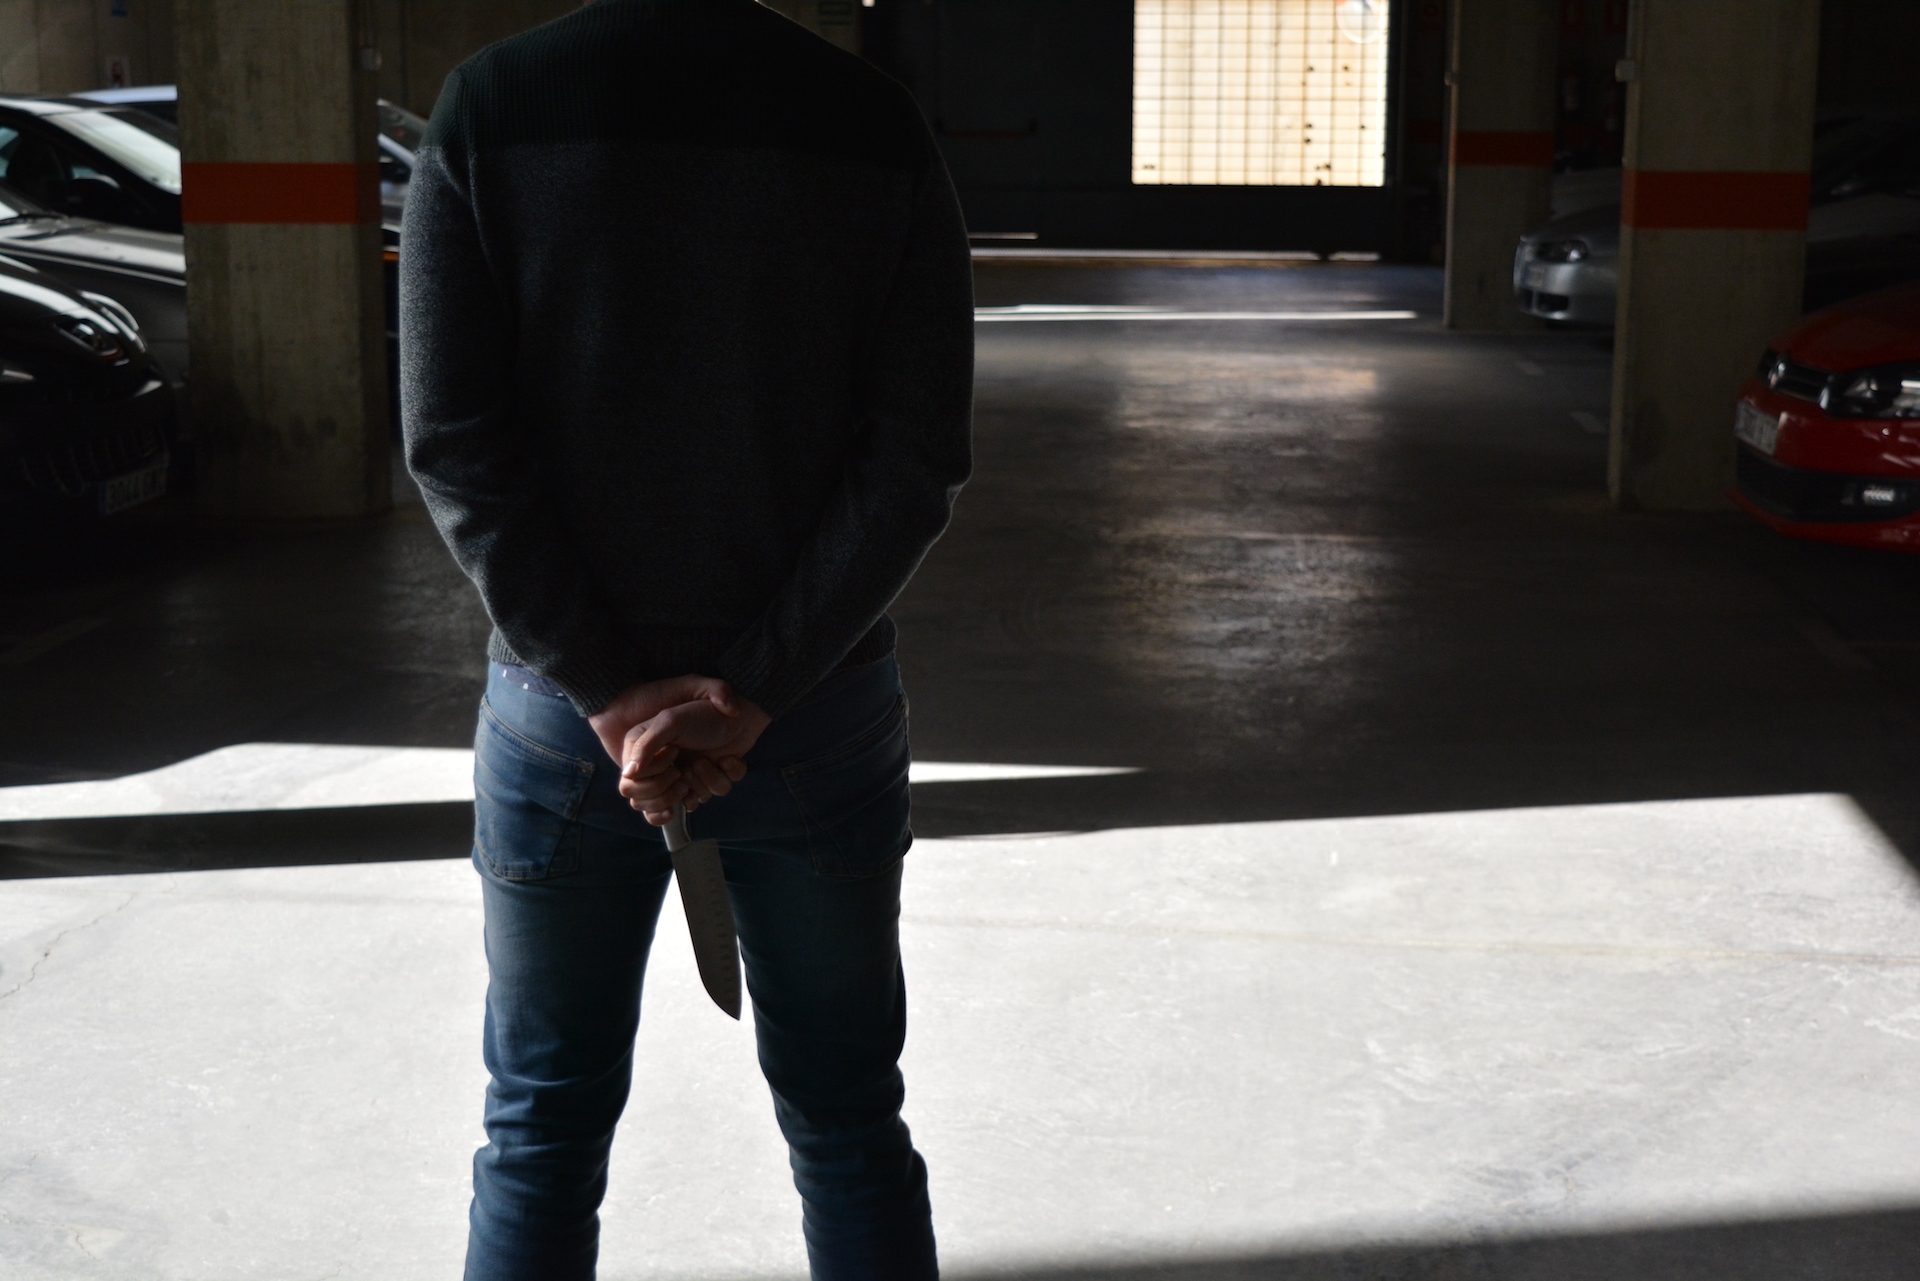knife: (649, 792, 751, 1029)
